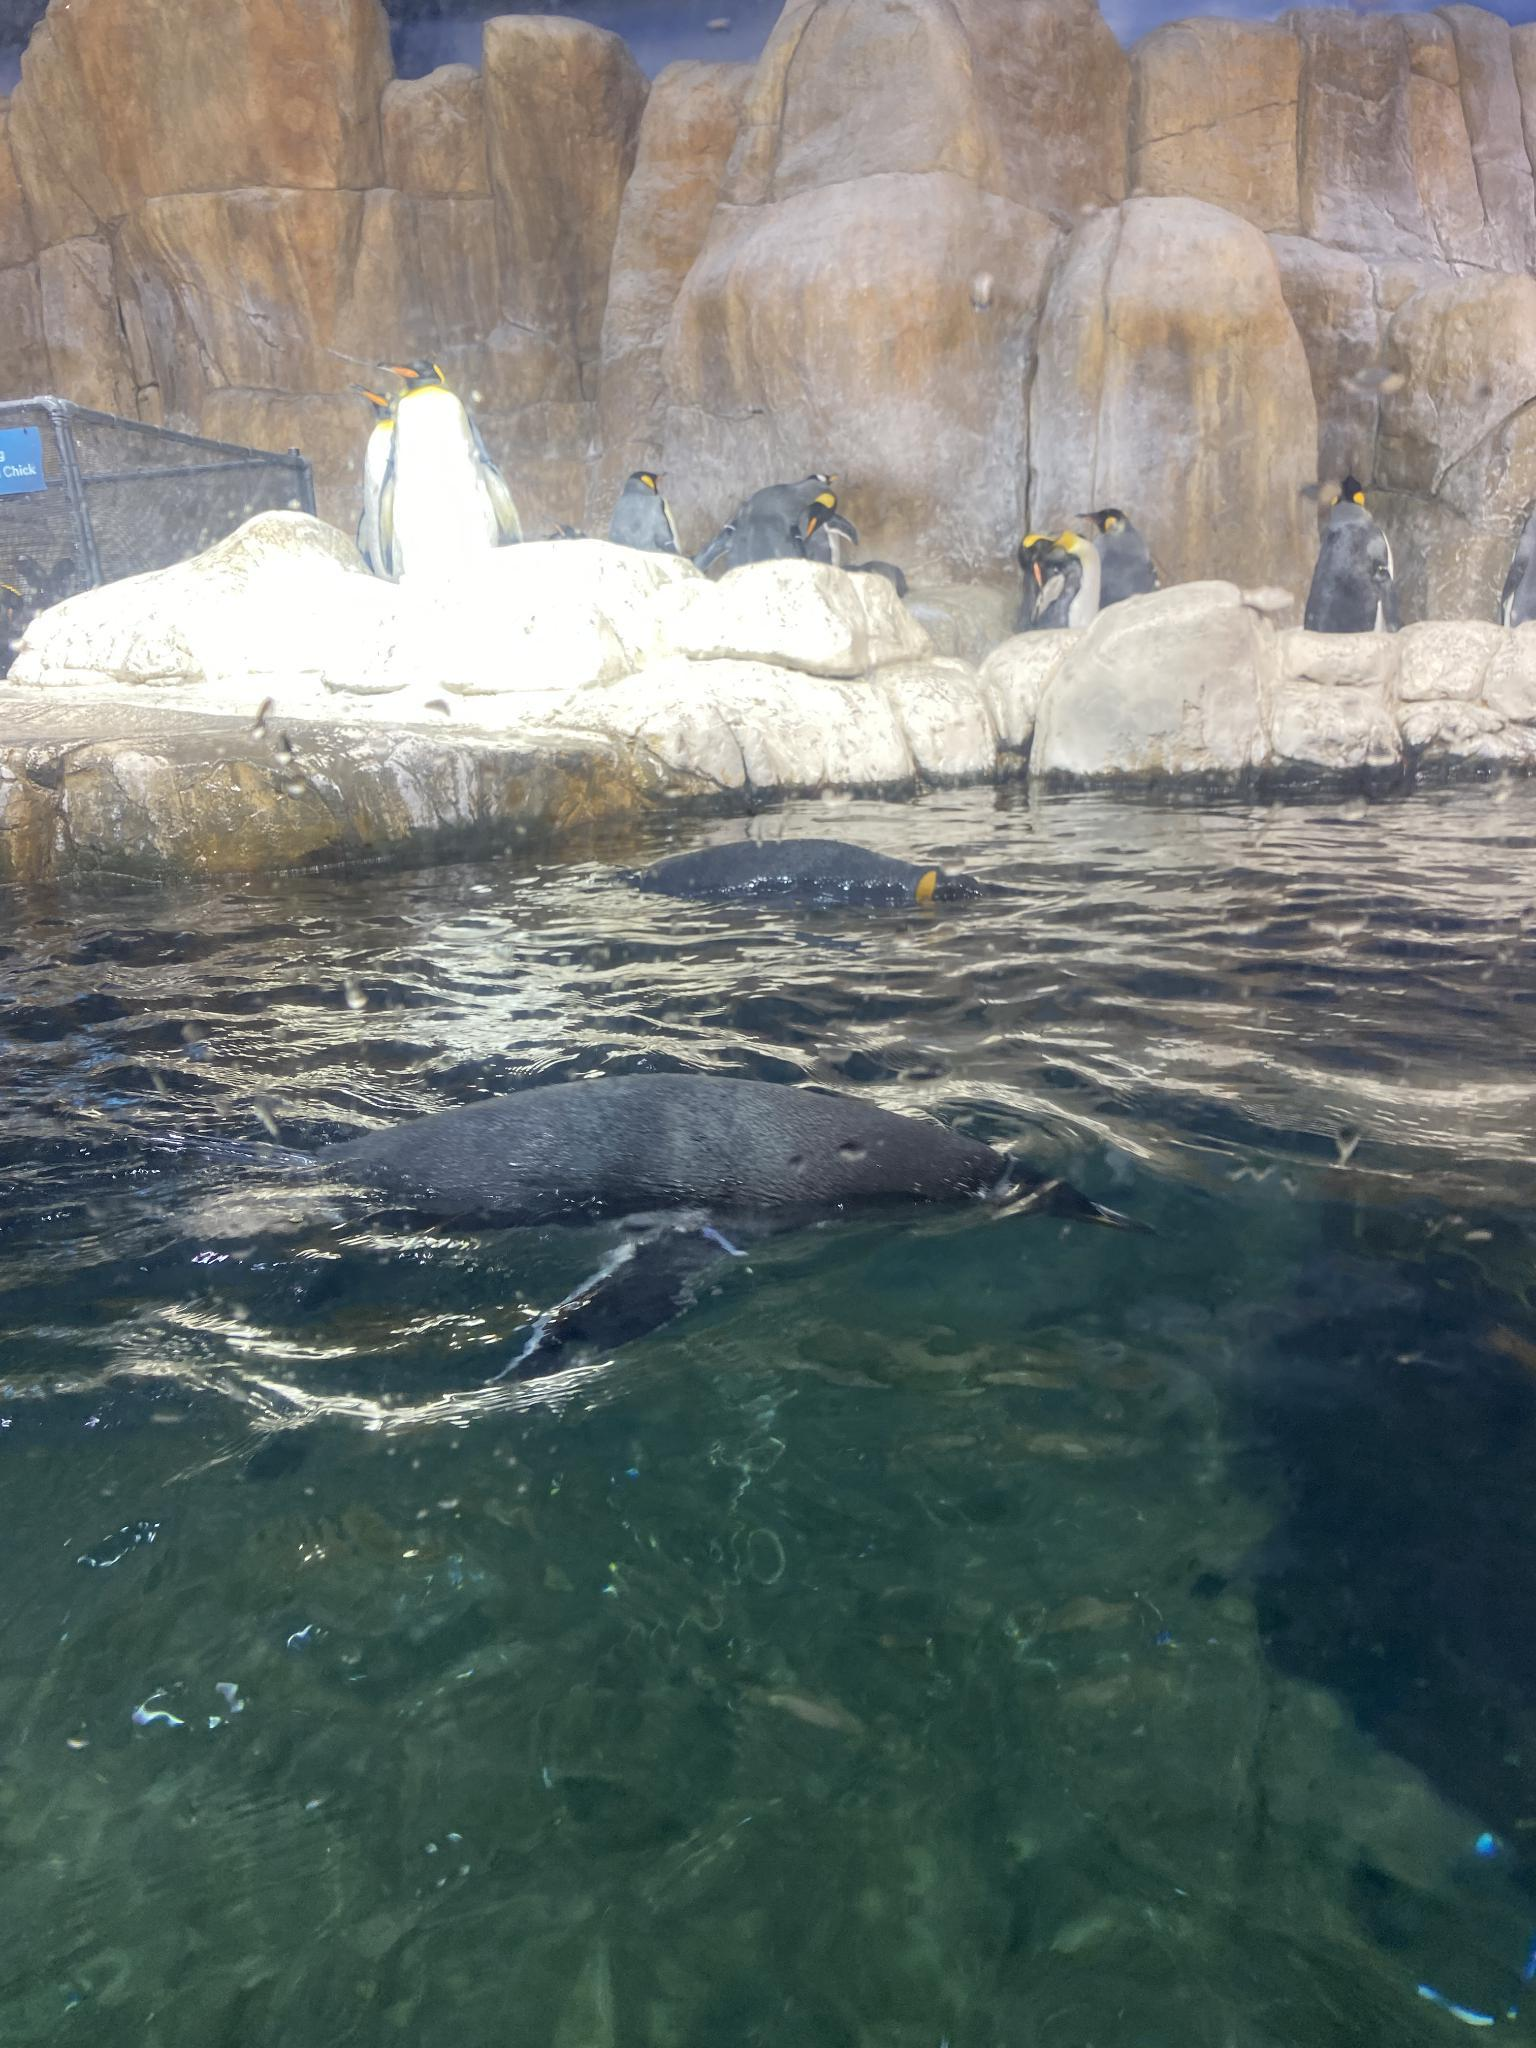penguin: (219, 1068, 1079, 1372), (629, 819, 994, 937), (394, 350, 532, 577), (1302, 450, 1409, 639), (1007, 522, 1108, 661), (352, 395, 421, 572), (579, 460, 687, 572), (1083, 489, 1171, 618), (803, 489, 889, 601), (728, 456, 842, 539), (1499, 481, 1536, 626)
